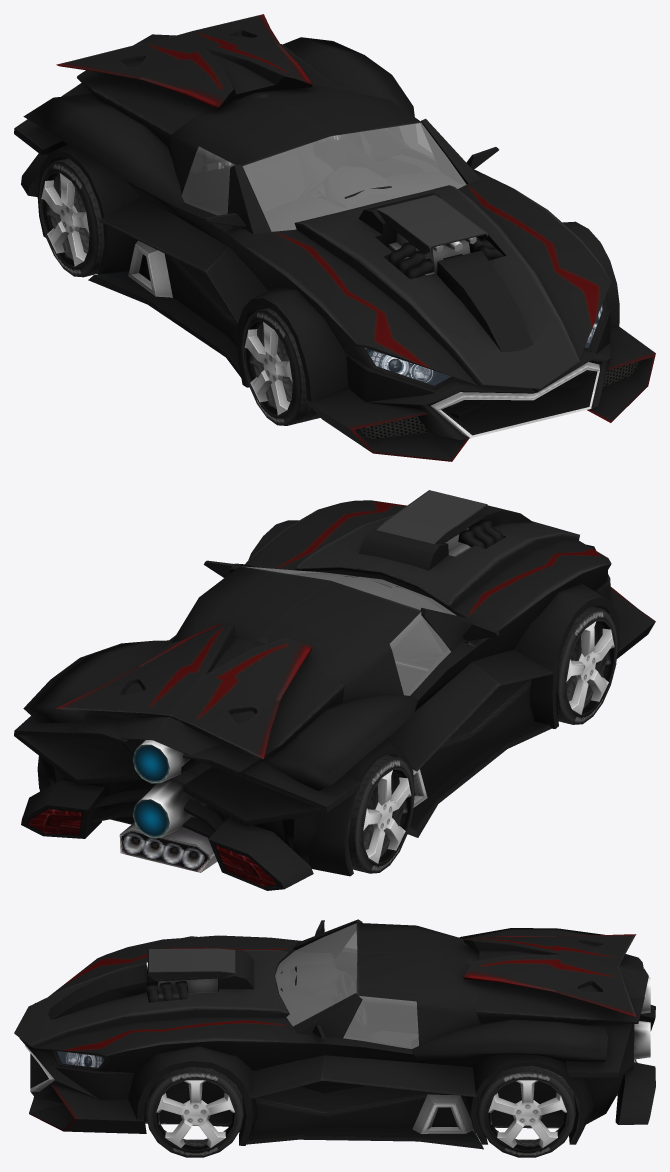
Rendered from car_fbx.FBX.
3 views of the same model, one above another, from view 1: azimuth 30°, elevation 25°; view 2: azimuth 150°, elevation 25°; view 3: azimuth 270°, elevation 25° (orthographic). The views are drawn at different scales.
Visible parts, largest first — view 1: Group001; view 2: Group001; view 3: Group001.
Part boxes in pixels (bbox=[...]): Group001: bbox=[14, 14, 655, 461]; Group001: bbox=[14, 490, 655, 890]; Group001: bbox=[14, 919, 655, 1157].
Size of what is drawn, in the model's own units: 1.95 by 1 by 4.03.
